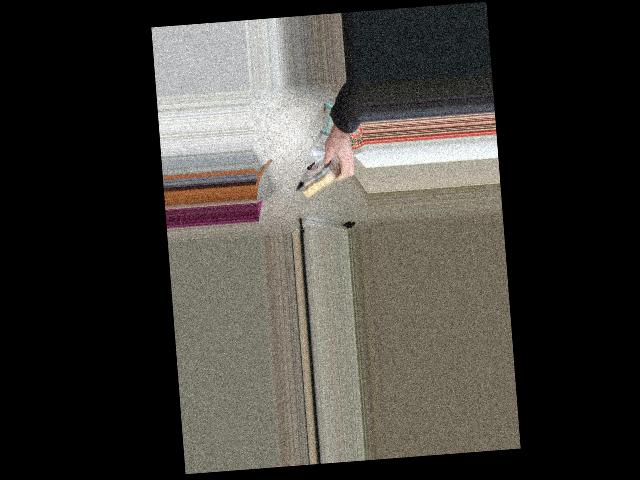cheese: (283, 142, 363, 208)
